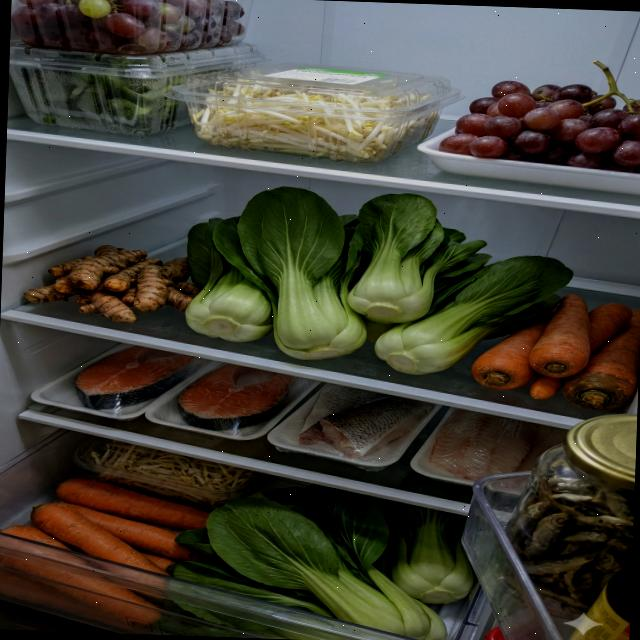anchovies: (500, 474, 634, 616)
bean_sprouts: (188, 66, 440, 166), (87, 439, 255, 509)
carrot: (0, 473, 211, 635), (468, 289, 640, 412)
fish: (425, 406, 570, 494), (296, 382, 438, 460), (74, 344, 210, 414), (174, 360, 296, 432)
grape: (435, 54, 640, 174), (9, 0, 247, 58)
pakchoy: (183, 183, 577, 380), (161, 477, 479, 640)
turmeric: (22, 241, 201, 326)
